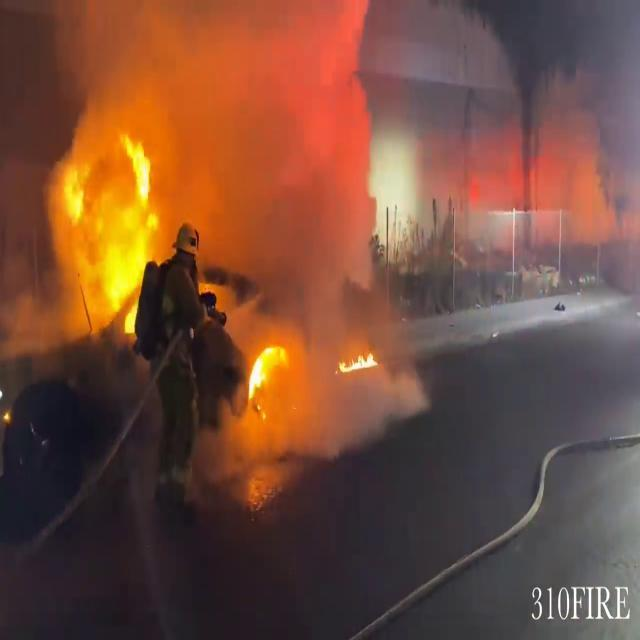Fire: (90, 120, 160, 302), (243, 336, 290, 416), (337, 340, 380, 382)
Smoke: (0, 2, 406, 352), (0, 2, 113, 360)
